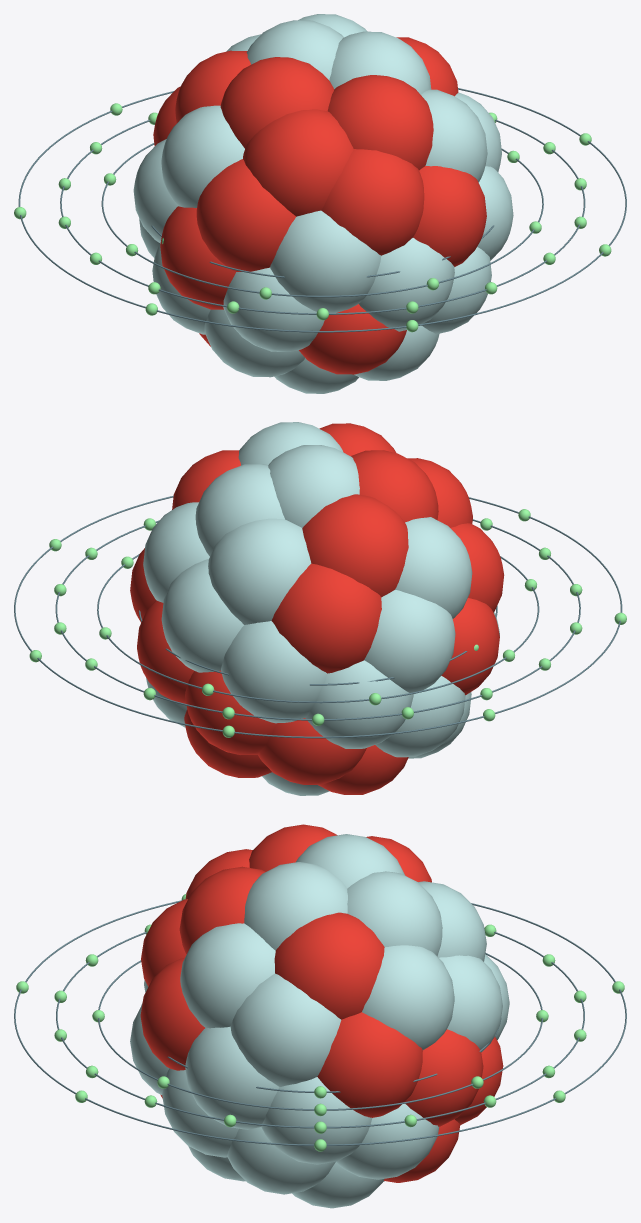
File: bromine.glb
The picture shows the model from 3 angles, top to bottom: view 1: azimuth 30°, elevation 25°; view 2: azimuth 150°, elevation 25°; view 3: azimuth 270°, elevation 25°; orthographic projection.
Visible parts, largest first — view 1: element_035_bromine; view 2: element_035_bromine; view 3: element_035_bromine.
Part boxes in pixels (x1,y1,x2,y2): element_035_bromine: (14, 14, 626, 393); element_035_bromine: (14, 422, 626, 795); element_035_bromine: (14, 824, 626, 1208).
Bounding box in the file's own units: 5.4 × 3.32 × 5.36.
